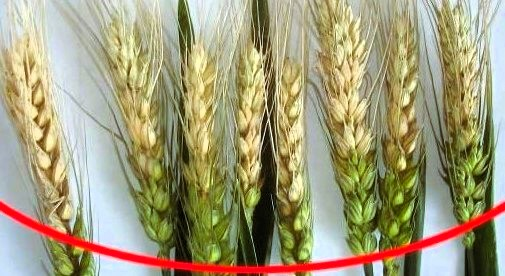Wheat scab: (314, 11, 384, 254), (175, 38, 232, 262)
